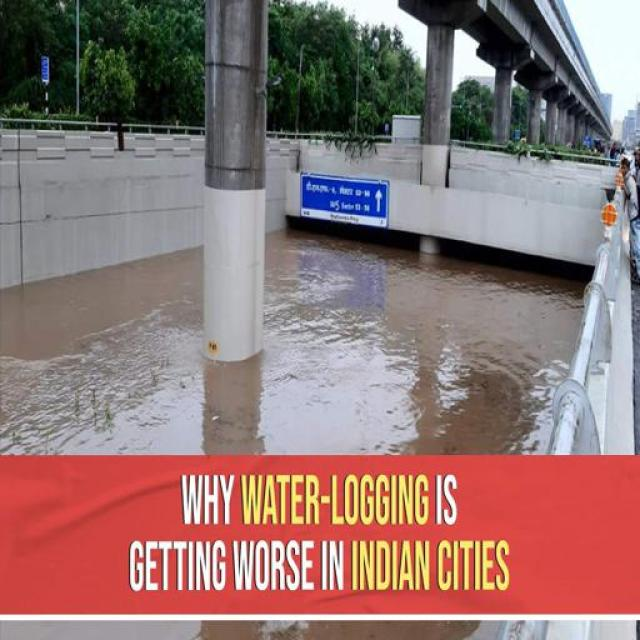puddle: (355, 284, 554, 458), (273, 220, 398, 470), (1, 285, 196, 445), (160, 363, 326, 452)
